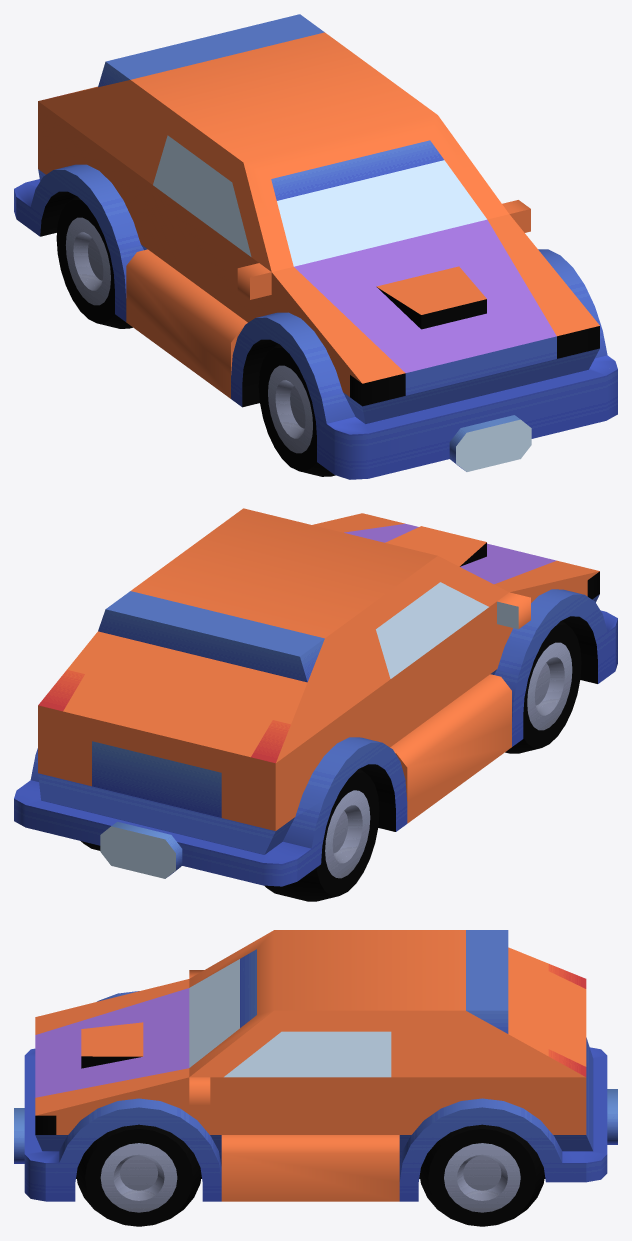
The model's file is swift_sport.glb.
The picture shows the model from 3 angles, top to bottom: view 1: azimuth 30°, elevation 25°; view 2: azimuth 150°, elevation 25°; view 3: azimuth 270°, elevation 25°; orthographic projection. The views are drawn at different scales.
Parts seen in each view (by area): view 1: body, wheel-back-right, wheel-front-right; view 2: body, wheel-back-right, wheel-front-right; view 3: body, wheel-front-left, wheel-back-left.
Part boxes in pixels (left/top/right/bottom): body: left=14, top=14, right=617, bottom=479; wheel-back-right: left=56, top=196, right=132, bottom=328; wheel-front-right: left=258, top=343, right=335, bottom=476; body: left=14, top=508, right=617, bottom=886; wheel-back-right: left=264, top=768, right=379, bottom=901; wheel-front-right: left=505, top=620, right=581, bottom=753; body: left=14, top=930, right=617, bottom=1201; wheel-front-left: left=76, top=1124, right=201, bottom=1226; wheel-back-left: left=419, top=1124, right=544, bottom=1226.
Size of the model in its own units: 1.3 by 1.1 by 2.85.
1 material, 1 textured.
